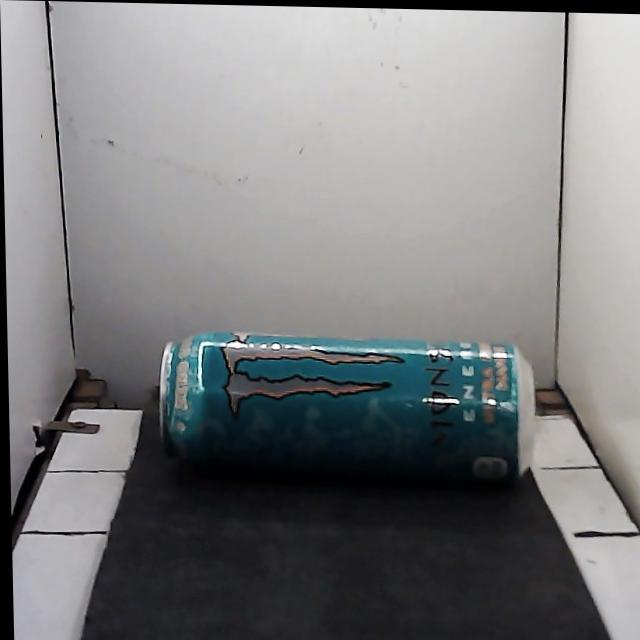metal: (159, 331, 535, 484)
